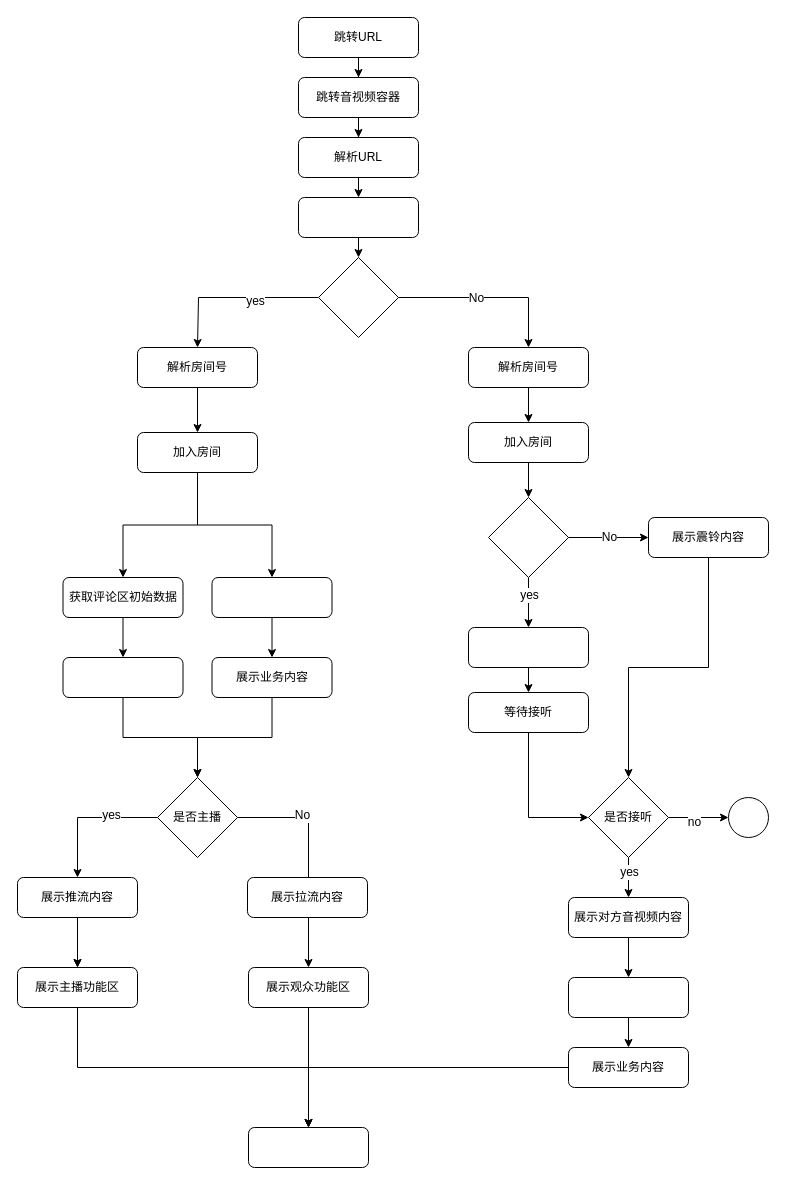
Some shapes in this 786 by 1185 pixel diagram are drawn without their labels. The centre of each missing label's shape, as x and y in pixels:
"加载Bundle" belongs at (x=358, y=217).
"展示交互内容" belongs at (x=122, y=677).
"展示音视频内容" belongs at (x=528, y=647).
"是否拨打方" belongs at (x=528, y=537).
"是否直播" belongs at (x=358, y=297).
"结束" belongs at (x=748, y=817).
"获取业务及其他数据" belongs at (x=271, y=597).
"获取业务数据" belongs at (x=628, y=997).
"页面初始化完成" belongs at (x=308, y=1147).
